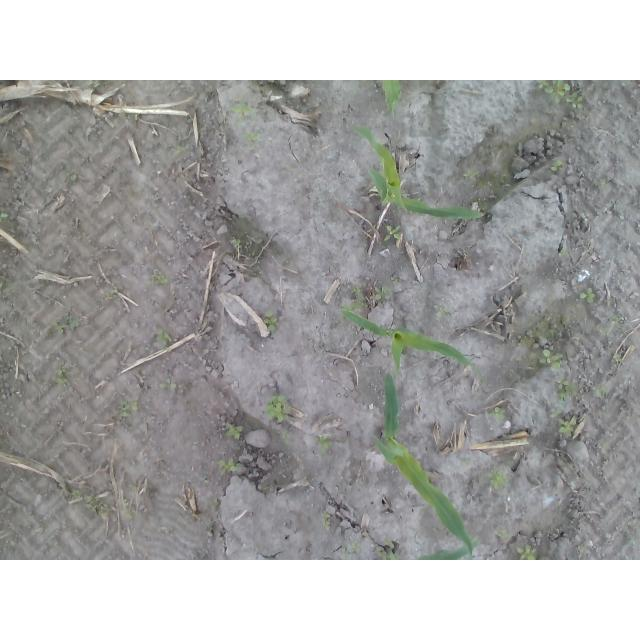Maize: (370, 373, 476, 558), (356, 123, 484, 223), (342, 310, 474, 373), (410, 536, 481, 560), (382, 80, 402, 112)
Weeds: (536, 80, 585, 109), (46, 314, 79, 338), (268, 392, 289, 422), (552, 410, 576, 434), (377, 537, 400, 560), (538, 347, 562, 369), (345, 287, 368, 309), (489, 468, 512, 489), (558, 377, 578, 399), (117, 399, 139, 418), (263, 313, 279, 338), (217, 456, 242, 472), (85, 494, 108, 510), (230, 98, 256, 112), (225, 423, 244, 442), (51, 366, 71, 384), (318, 434, 335, 455), (578, 287, 598, 304), (487, 406, 505, 424), (516, 544, 536, 560), (240, 129, 261, 144), (383, 224, 401, 240), (432, 303, 448, 321), (122, 497, 134, 521), (549, 159, 564, 174), (462, 167, 482, 178), (63, 486, 83, 497), (152, 273, 168, 286), (496, 530, 512, 543), (375, 286, 392, 298), (160, 376, 177, 388), (320, 512, 332, 529), (592, 386, 609, 398), (159, 326, 170, 342), (495, 174, 506, 187), (350, 542, 361, 553), (280, 431, 288, 446), (110, 286, 119, 298), (0, 211, 8, 223), (232, 239, 241, 248), (600, 327, 608, 337), (612, 353, 620, 363), (560, 248, 569, 256), (611, 314, 617, 324), (479, 178, 484, 187), (256, 304, 262, 309)
